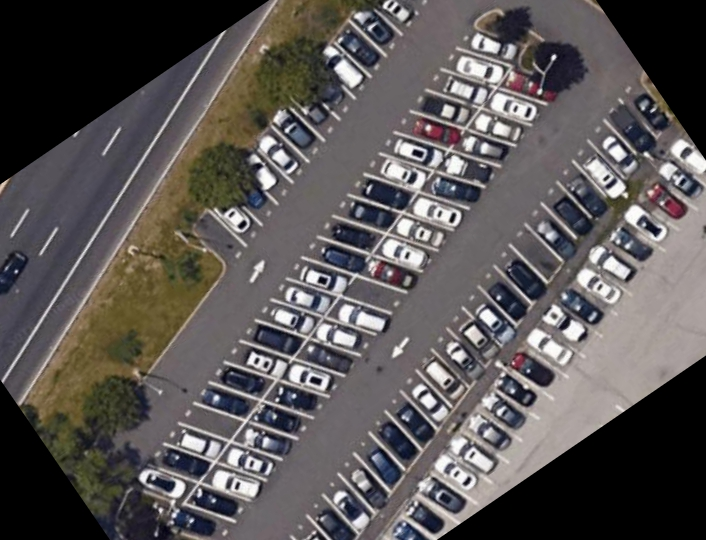parkingspot: (123, 23, 580, 540), (284, 69, 678, 540), (376, 129, 706, 540), (188, 0, 432, 274)
